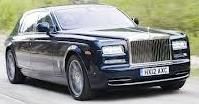front_view: (93, 34, 191, 91)
headlight: (96, 38, 130, 62)
side_glass: (13, 10, 60, 34)
